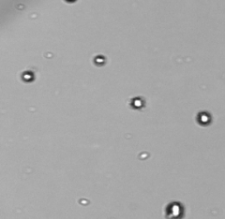Living Cell: (166, 202, 184, 218), (196, 111, 211, 126), (130, 95, 145, 109), (22, 71, 35, 82), (94, 55, 106, 65)
